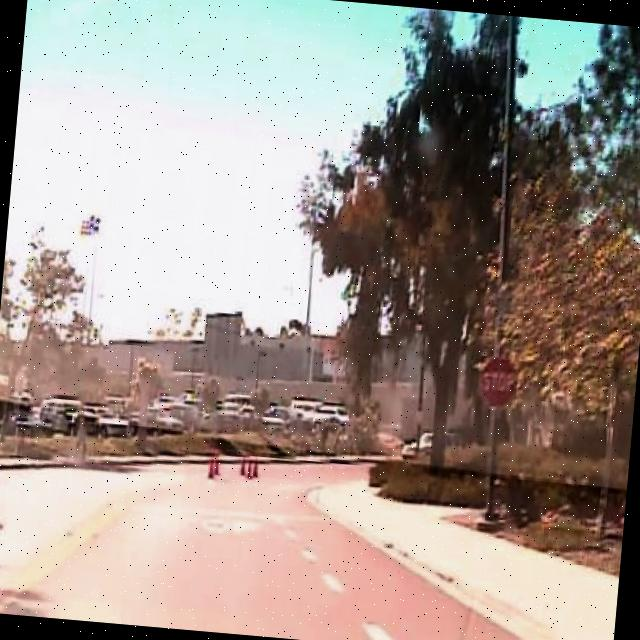Stop: (474, 352, 522, 413)
